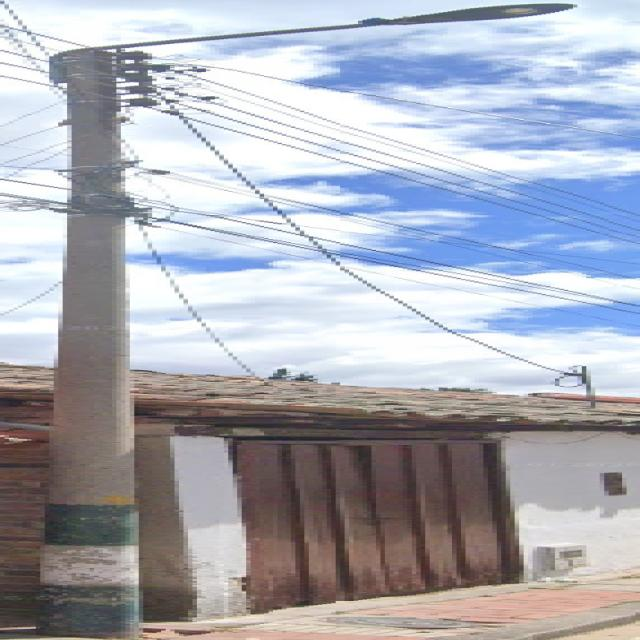Fachada: (134, 372, 636, 621), (0, 364, 49, 425)
Poste: (40, 4, 568, 639)
